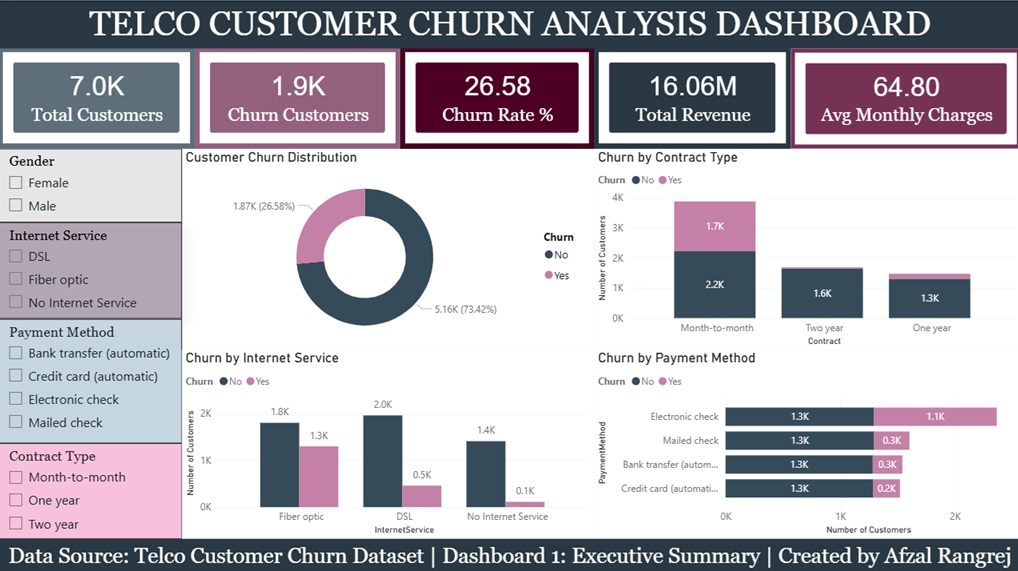

This screenshot's page, from the dashboard's own definition file:
{"tool":"powerbi","page":{"name":"Page 1","canvas":[1280,720],"ordinal":0},"visuals":[{"type":"donutChart","title":"Customer Churn Distribution","fields":{"Category":["Telco_Customer_churn_feature_engineered.Churn"],"Y":["CountNonNull(Telco_Customer_churn_feature_engineered.customerID)"]},"box":[229.7,185.7,515.7,251.7],"z":0},{"type":"columnChart","title":"Churn by Contract Type","fields":{"Category":["Telco_Customer_churn_feature_engineered.Contract"],"Y":["CountNonNull(Telco_Customer_churn_feature_engineered.customerID)"],"Series":["Telco_Customer_churn_feature_engineered.Churn"]},"box":[745.4,185.7,535,251.7],"z":1000},{"type":"slicer","fields":{"Values":["Telco_Customer_churn_feature_engineered.gender"]},"box":[0,185.7,229.7,92.1],"z":2000},{"type":"slicer","fields":{"Values":["Telco_Customer_churn_feature_engineered.InternetService"]},"box":[0,277.8,229.7,121],"z":3000},{"type":"slicer","fields":{"Values":["Telco_Customer_churn_feature_engineered.PaymentMethod"]},"box":[0,398.8,229.7,155.4],"z":4000},{"type":"slicer","fields":{"Values":["Telco_Customer_churn_feature_engineered.Contract"]},"box":[0,554.2,229.7,119.6],"z":5000},{"type":"clusteredColumnChart","title":"Churn by Internet Service","fields":{"Category":["Telco_Customer_churn_feature_engineered.InternetService"],"Y":["CountNonNull(Telco_Customer_churn_feature_engineered.customerID)"],"Series":["Telco_Customer_churn_feature_engineered.Churn"]},"box":[229.7,437.3,515.7,236.5],"z":6000},{"type":"barChart","title":"Churn by Payment Method","fields":{"Category":["Telco_Customer_churn_feature_engineered.PaymentMethod"],"Y":["CountNonNull(Telco_Customer_churn_feature_engineered.customerID)"],"Series":["Telco_Customer_churn_feature_engineered.Churn"]},"box":[745.4,437.3,535,236.5],"z":7000},{"type":"textbox","box":[0,673.9,1280.4,46.8],"z":8000},{"type":"cardVisual","fields":{"Data":["Telco_Customer_churn_feature_engineered.Total Customers"]},"box":[0,59.1,246.2,126.5],"z":9000},{"type":"cardVisual","fields":{"Data":["Telco_Customer_churn_feature_engineered.Churn Customers"]},"box":[246.2,59.1,257.2,126.5],"z":10000},{"type":"cardVisual","fields":{"Data":["Telco_Customer_churn_feature_engineered.Churn Rate %"]},"box":[503.4,59.1,242,126.5],"z":11000},{"type":"cardVisual","fields":{"Data":["Telco_Customer_churn_feature_engineered.Total Revenue"]},"box":[745.4,59.1,246.2,126.5],"z":12000},{"type":"cardVisual","fields":{"Data":["Telco_Customer_churn_feature_engineered.Avg Monthly Charges"]},"box":[991.6,60.5,288.8,125.2],"z":13000},{"type":"textbox","box":[0,0,1280.4,60.5],"z":14000}]}

Visuals, with their boxes in screenshot pixels (x1, y1, x2, y2), scaled from the page's 1280x720 canvas onto the 1018x571 screenshot:
"Customer Churn Distribution" donutChart: 183:147:593:347
"Churn by Contract Type" columnChart: 593:147:1017:347
slicer - Telco_Customer_churn_feature_engineered.gender: 0:147:183:220
slicer - Telco_Customer_churn_feature_engineered.InternetService: 0:220:183:316
slicer - Telco_Customer_churn_feature_engineered.PaymentMethod: 0:316:183:440
slicer - Telco_Customer_churn_feature_engineered.Contract: 0:440:183:534
"Churn by Internet Service" clusteredColumnChart: 183:347:593:534
"Churn by Payment Method" barChart: 593:347:1017:534
textbox: 0:534:1017:570
cardVisual - Telco_Customer_churn_feature_engineered.Total Customers: 0:47:196:147
cardVisual - Telco_Customer_churn_feature_engineered.Churn Customers: 196:47:400:147
cardVisual - Telco_Customer_churn_feature_engineered.Churn Rate %: 400:47:593:147
cardVisual - Telco_Customer_churn_feature_engineered.Total Revenue: 593:47:789:147
cardVisual - Telco_Customer_churn_feature_engineered.Avg Monthly Charges: 789:48:1017:147
textbox: 0:0:1017:48
